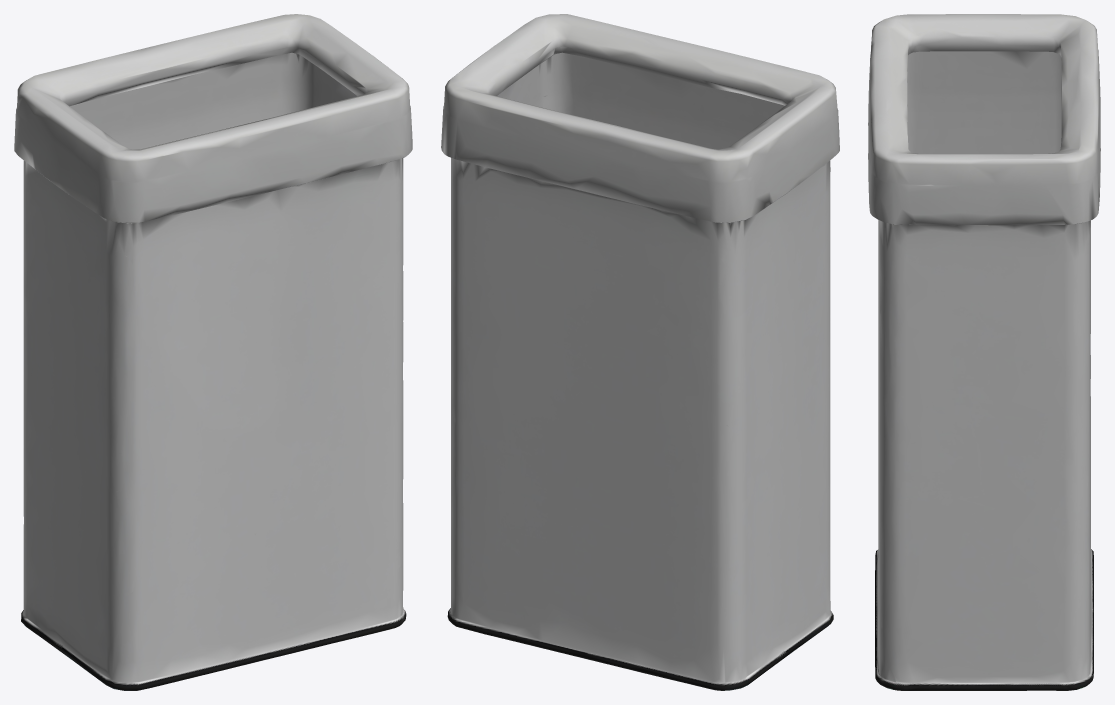
File: metal_trash_can_3d_model.fbx
3 views of the same model, side by side, from view 1: azimuth 30°, elevation 25°; view 2: azimuth 150°, elevation 25°; view 3: azimuth 270°, elevation 25° (orthographic).
Visible parts, largest first — view 1: tripo_node_68972d57; view 2: tripo_node_68972d57; view 3: tripo_node_68972d57.
Boxes of the visible parts, left/top/right/bottom form: tripo_node_68972d57: left=14, top=14, right=412, bottom=690; tripo_node_68972d57: left=441, top=14, right=839, bottom=690; tripo_node_68972d57: left=868, top=14, right=1100, bottom=690.
Bounding box in the file's own units: 0.6085 × 1 × 0.3955.
